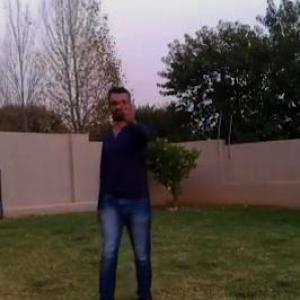takeoff-hand: (113, 94, 143, 128)
